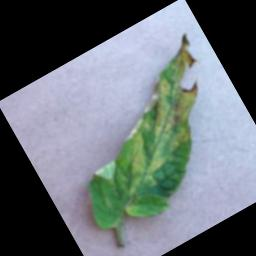Leaf_Mold: (77, 43, 239, 200)
